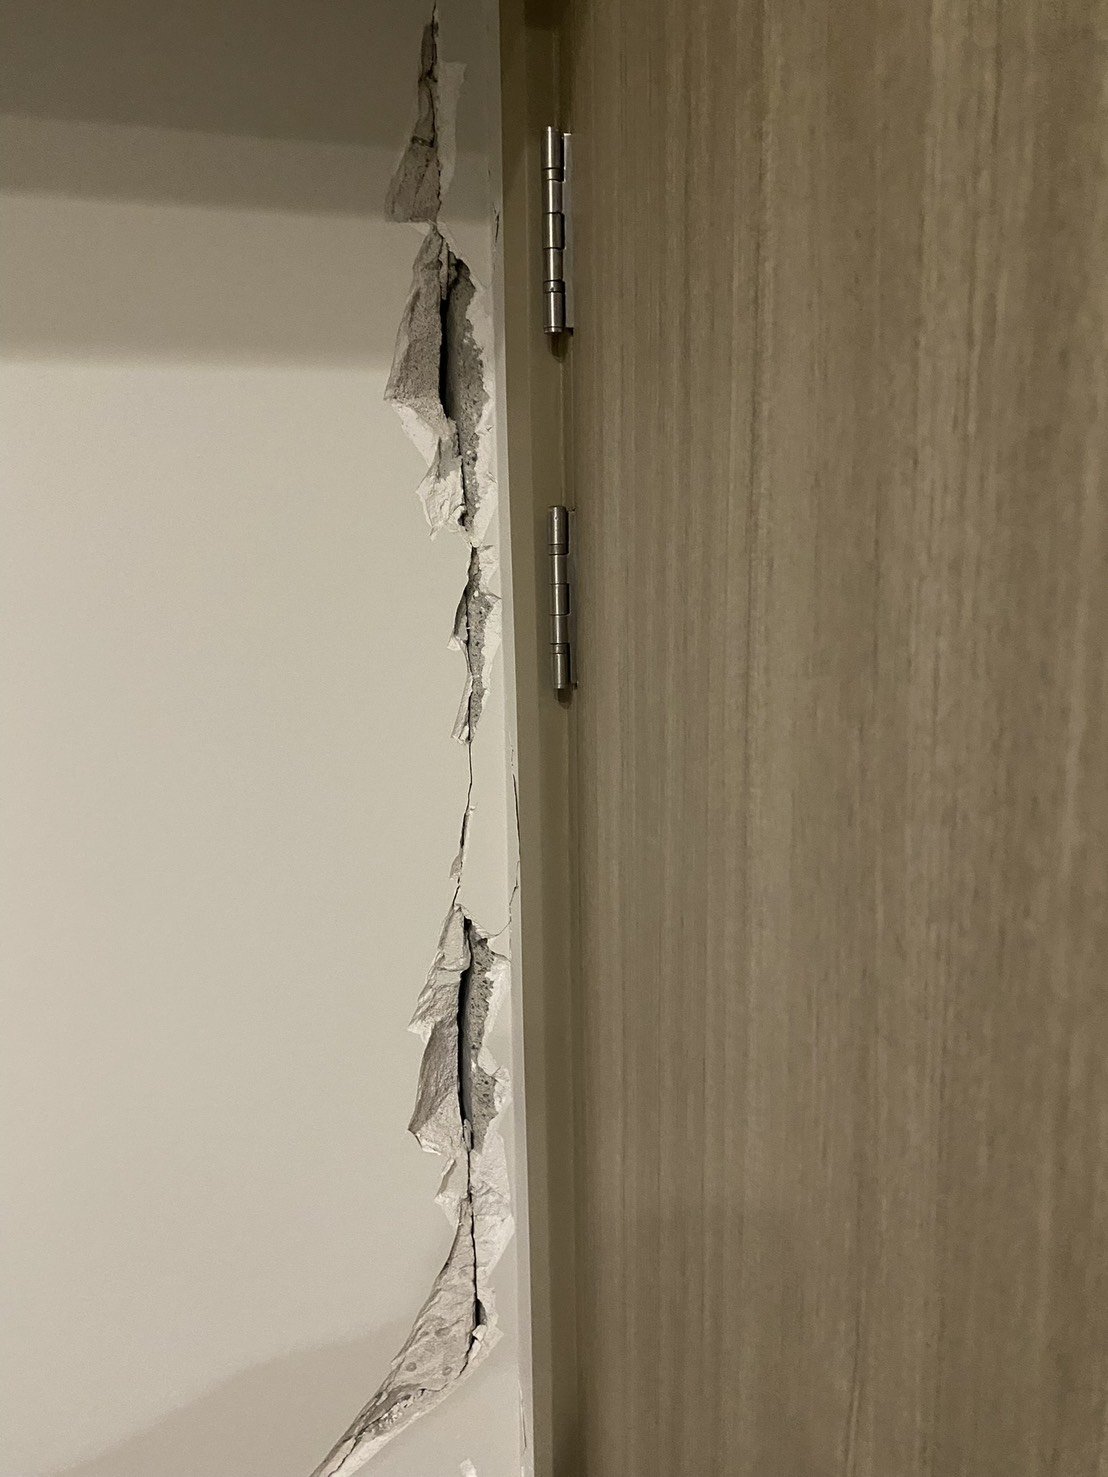Medium: (328, 72, 521, 1210)
